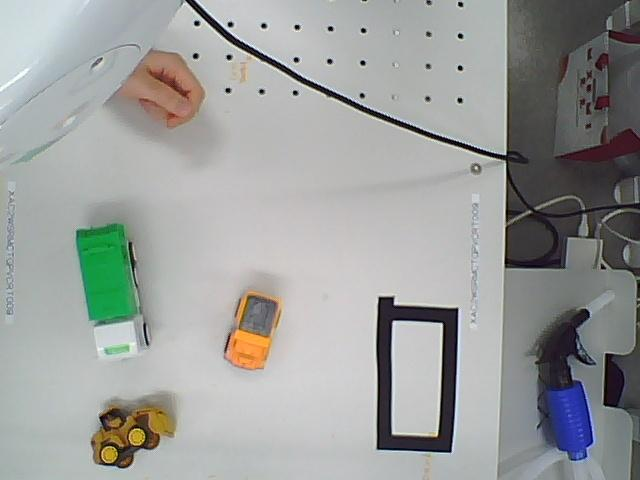Diesel car: (220, 283, 282, 382)
Electric car: (69, 222, 157, 362)
Gasoline car: (88, 400, 183, 479)
